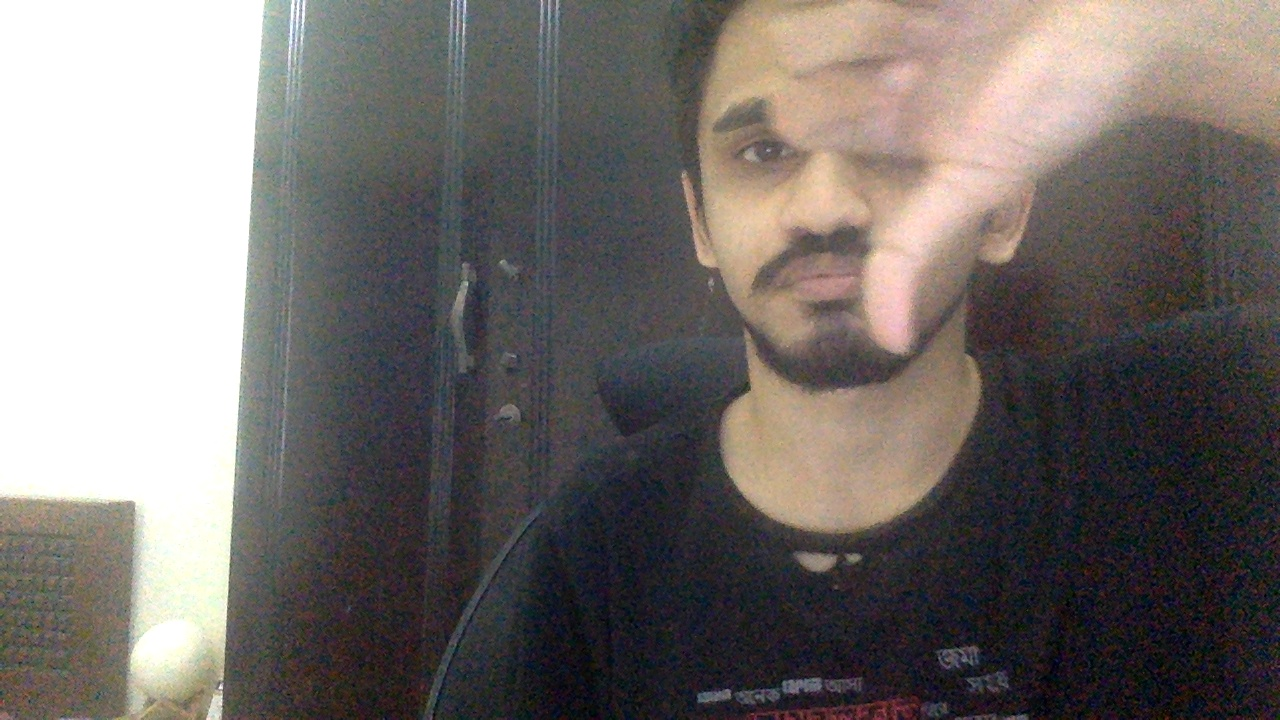bad: (770, 1, 1098, 353)
